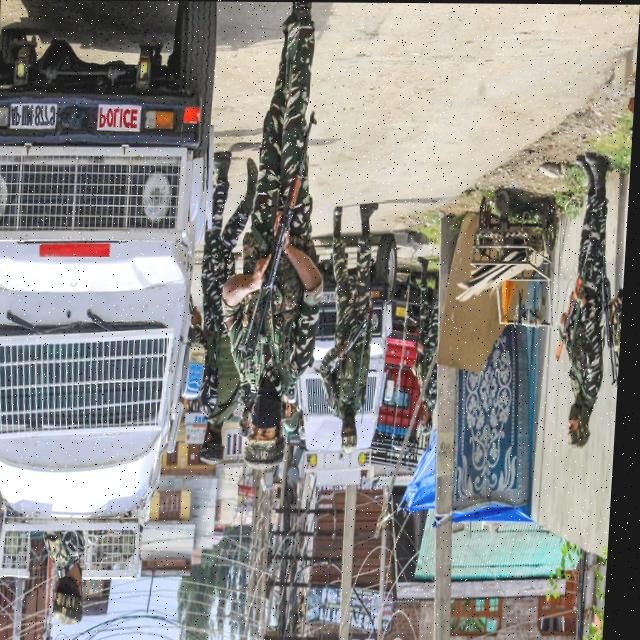plate: (9, 99, 62, 133)
